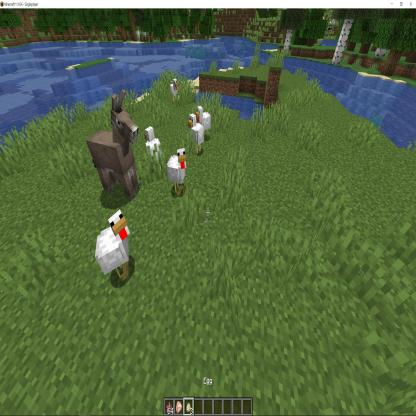minecraft-pigs: (153, 159, 196, 260)
